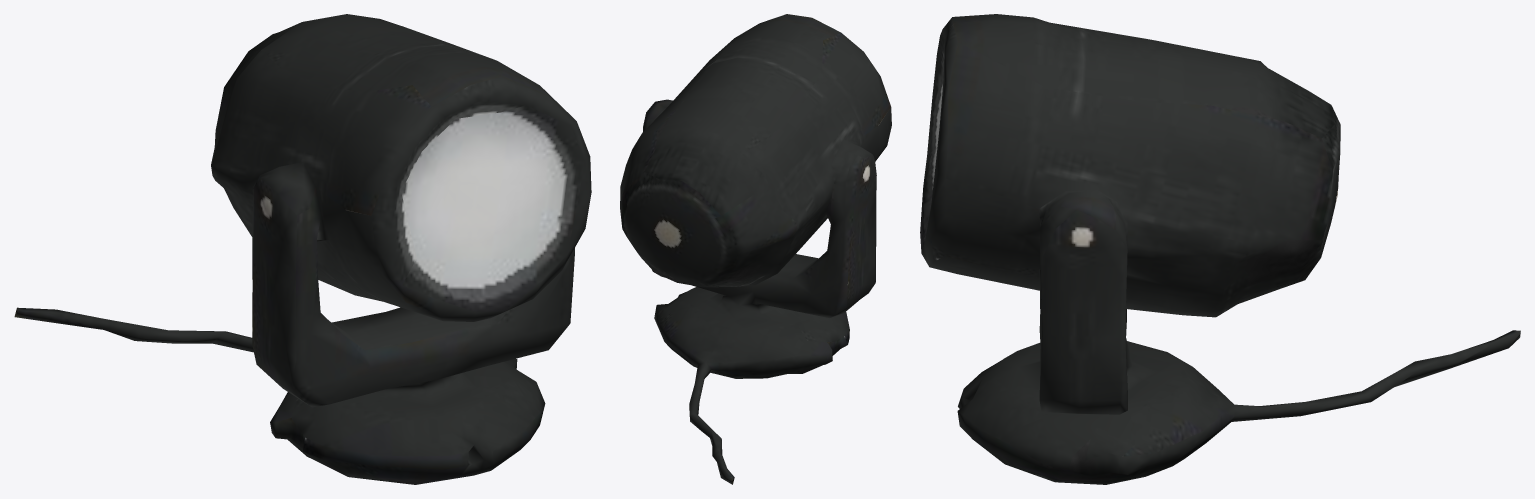
File: moving_head.glb
The picture shows the model from 3 angles, left to right: view 1: azimuth 30°, elevation 25°; view 2: azimuth 150°, elevation 25°; view 3: azimuth 270°, elevation 25°; orthographic projection. The views are drawn at different scales.
Size of the model in its own units: 0.6356 by 0.7559 by 0.9976.
Materials: 1 (1 with a texture image).
